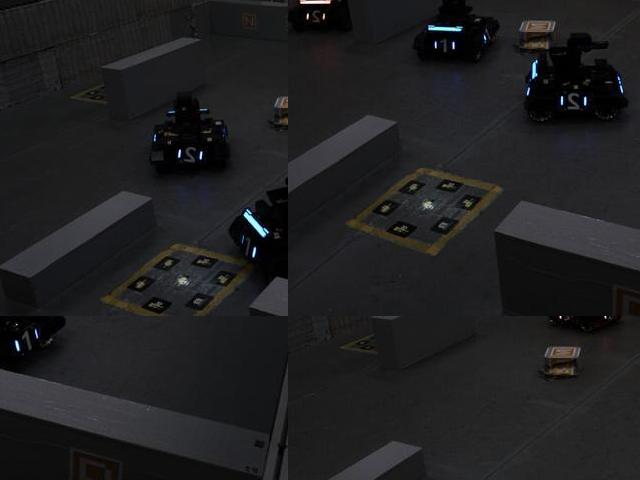armor: (7, 324, 42, 357), (172, 142, 209, 169), (557, 90, 594, 115), (237, 224, 259, 265), (430, 35, 457, 58), (302, 6, 330, 26), (556, 316, 580, 327), (598, 316, 619, 324)
